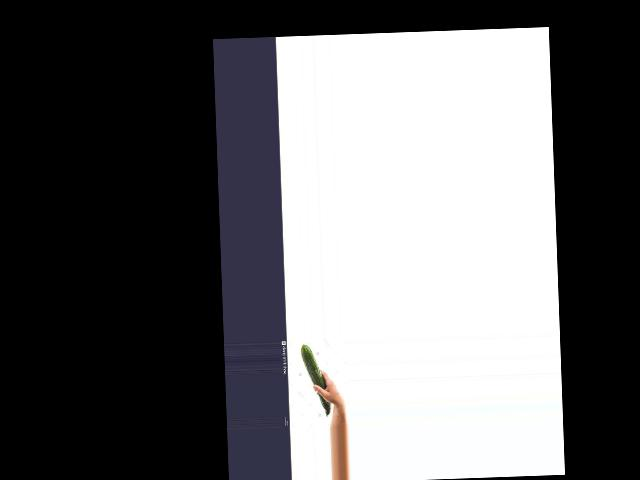cucumber: (300, 343, 331, 418)
